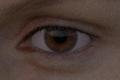eye: (45, 27, 78, 53)
